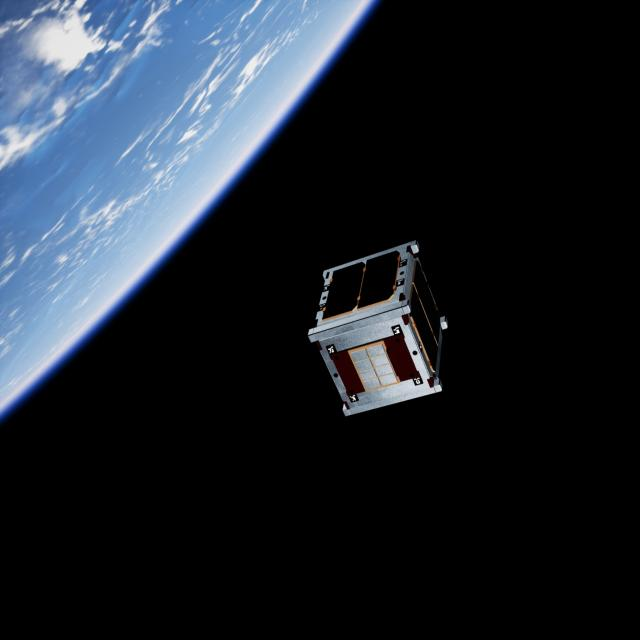satellite: (308, 232, 462, 430)
